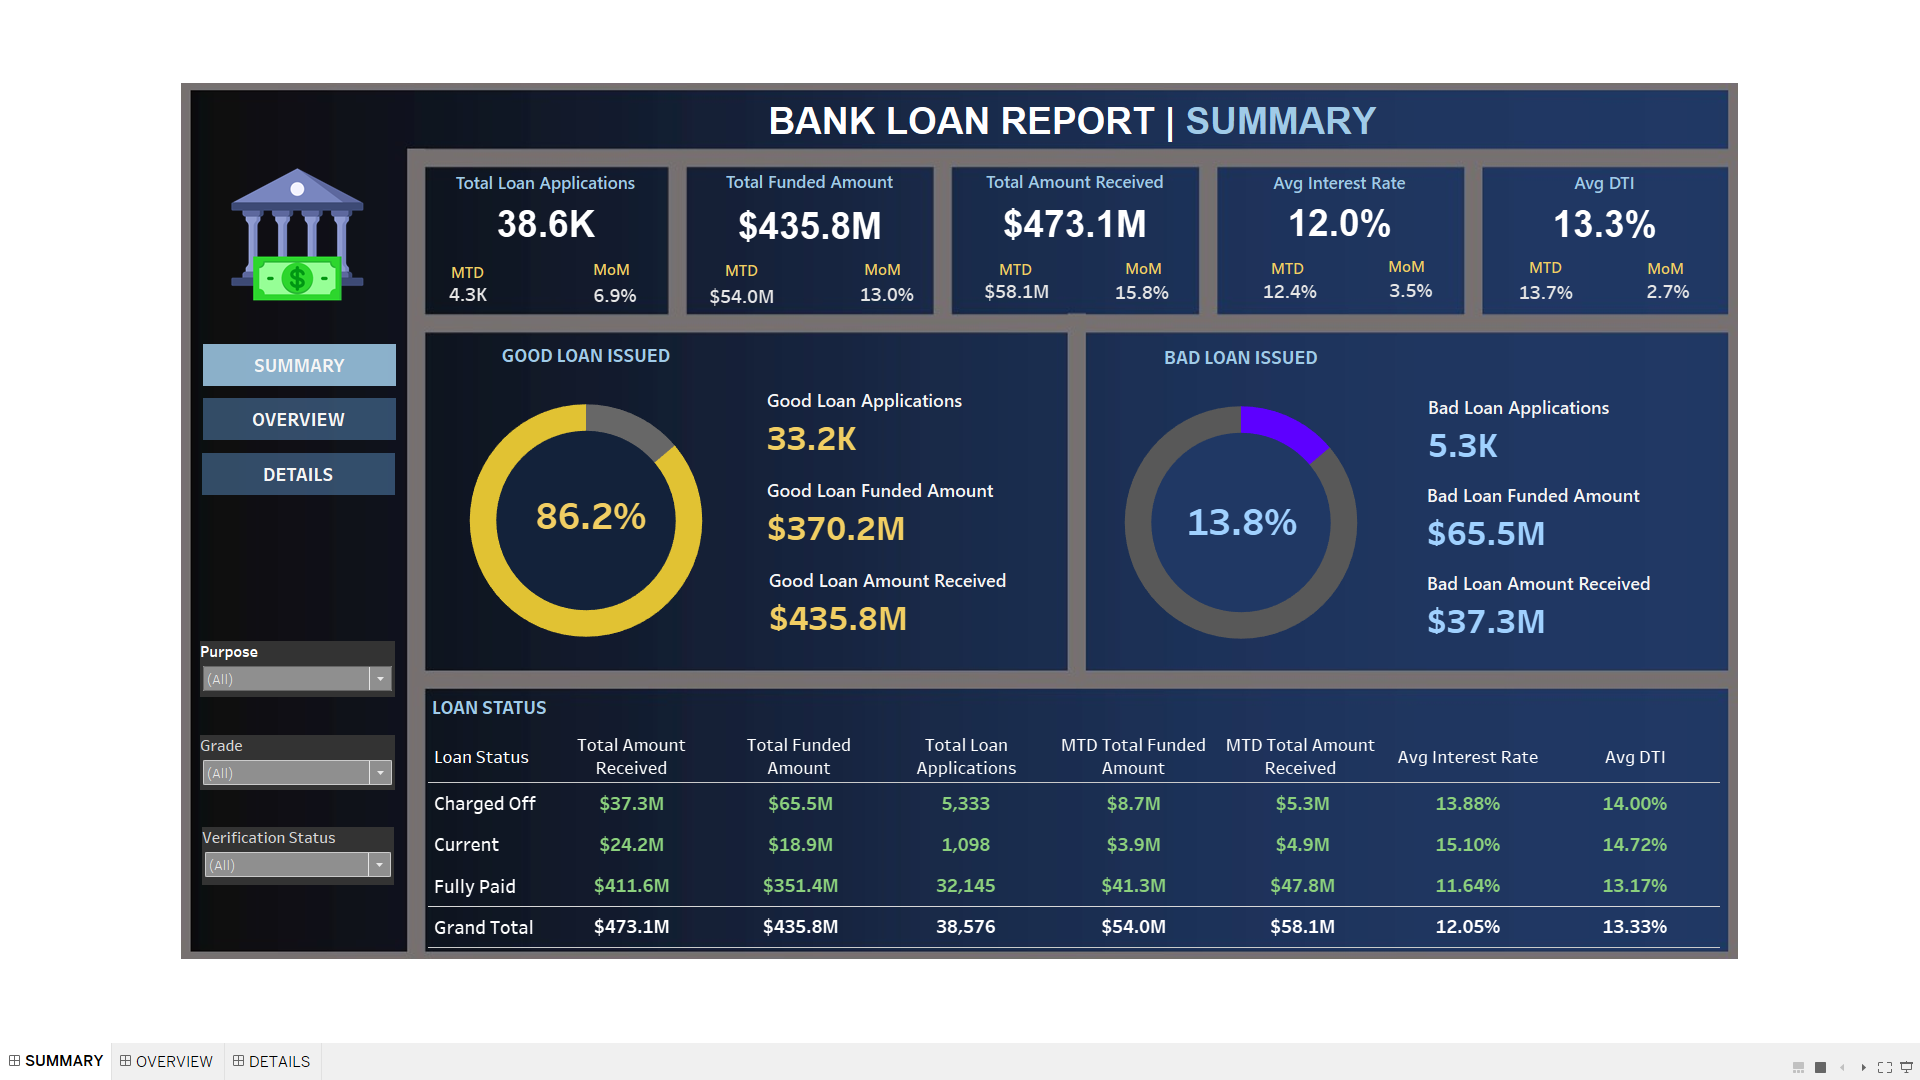

What the dashboard file says about the page in this screenshot:
{"tool":"tableau","page":{"name":"SUMMARY","canvas":[1600,900],"ordinal":2},"visuals":[{"type":"image","param":"Image/Tableau Background 1.jpg","box":[8,8,1584,884]},{"type":"text","box":[605,23,679,55]},{"type":"image","param":"Image/banking.png","box":[68,83,138,160]},{"type":"worksheet","title":"Total Funded Amount","mark":"Automatic","box":[526,95,247,84]},{"type":"worksheet","title":"Total Amount Received","mark":"Automatic","box":[791,95,248,79]},{"type":"worksheet","title":"Total Loan Applications","mark":"Automatic","box":[264,96,243,78]},{"type":"worksheet","title":"Avg Interest Rate","mark":"Automatic","box":[1056,96,247,76]},{"type":"worksheet","title":"Avg DTI","mark":"Automatic","box":[1322,96,245,78]},{"type":"text","box":[1209,183,75,24]},{"type":"text","box":[1348,184,75,24]},{"type":"text","box":[946,185,75,24]},{"type":"text","box":[1090,185,75,24]},{"type":"text","box":[1468,185,75,24]},{"type":"text","box":[414,186,75,24]},{"type":"text","box":[685,186,75,24]},{"type":"text","box":[818,186,75,24]},{"type":"text","box":[544,187,75,24]},{"type":"text","box":[270,189,75,24]},{"type":"worksheet","title":"MTD Total Amount Received","mark":"Automatic","box":[816,198,82,44]},{"type":"worksheet","title":"MoM Avg Interest Rate","mark":"Automatic","box":[1213,198,75,42]},{"type":"worksheet","title":"MTD Avg Interest Rate","mark":"Automatic","box":[1087,200,85,39]},{"type":"worksheet","title":"MTD DTI","mark":"Automatic","box":[1338,200,96,41]},{"type":"worksheet","title":"MoM Avg DTI","mark":"Automatic","box":[1459,200,98,40]},{"type":"worksheet","title":"MoM Total Funded Amount","mark":"Automatic","box":[682,202,89,42]},{"type":"worksheet","title":"MoM Total Amount Received","mark":"Automatic","box":[944,204,76,33]},{"type":"worksheet","title":"MTD Total Loan Applications","mark":"Automatic","box":[276,207,64,31]},{"type":"worksheet","title":"MTD Total Funded Amount","mark":"Automatic","box":[544,207,75,35]},{"type":"worksheet","title":"MoM Loan Applications","mark":"Automatic","box":[421,209,68,29]},{"type":"worksheet","title":"Good Loan Issued","mark":"Pie","rows":["Calculation_1113796513206132737","Calculation_1113796513206132737"],"box":[276,267,300,325]},{"type":"worksheet","title":"Bad Loan Issued","mark":"Pie","rows":["Calculation_1113796513206132737","Calculation_1113796513206132737"],"box":[931,269,300,325]},{"type":"dashboard-object","box":[43,273,193,42]},{"type":"worksheet","title":"Good Loan Applications","mark":"Automatic","box":[599,309,300,75]},{"type":"worksheet","title":"Bad Loan Applications","mark":"Automatic","box":[1260,316,300,75]},{"type":"dashboard-object","box":[43,327,193,42]},{"type":"dashboard-object","box":[42,382,193,42]},{"type":"worksheet","title":"Good Loan Funded Amount","mark":"Automatic","box":[599,399,300,75]},{"type":"worksheet","title":"Good Loan Application %","mark":"Automatic","box":[358,404,145,78]},{"type":"worksheet","title":"Bad Loan Funded Amount","mark":"Automatic","box":[1259,404,300,75]},{"type":"worksheet","title":"Bad Loan Application % ","mark":"Automatic","box":[1005,410,153,77]},{"type":"worksheet","title":"Good Loan Amount Received","mark":"Automatic","box":[601,489,300,75]},{"type":"worksheet","title":"Bad Loan Amount Received","mark":"Automatic","box":[1259,492,300,75]},{"type":"filter","title":"Good Loan Issued","param":"[federated.1yo319s07czi5s1dtju3v0njmv9x].[none:purpose:nk]","box":[40,570,195,56]},{"type":"worksheet","title":"Loan Status","mark":"Automatic","rows":["loan_status"],"box":[268,619,1292,258]},{"type":"filter","title":"Good Loan Issued","param":"[federated.1yo319s07czi5s1dtju3v0njmv9x].[none:grade:nk]","box":[40,664,195,55]},{"type":"filter","title":"Good Loan Issued","param":"[federated.1yo319s07czi5s1dtju3v0njmv9x].[none:verification_status:nk]","box":[42,756,192,58]}]}

Visuals, with their boxes on the page's 1600x900 design canvas (x1, y1, x2, y2). These are canvas units, not pixel positions in the 1920x1080 screenshot, which may show the page scaled, cropped or inside an application window:
image: x1=8, y1=8, x2=1592, y2=892
text: x1=605, y1=23, x2=1284, y2=78
image: x1=68, y1=83, x2=206, y2=243
"Total Funded Amount" worksheet: x1=526, y1=95, x2=773, y2=179
"Total Amount Received" worksheet: x1=791, y1=95, x2=1039, y2=174
"Total Loan Applications" worksheet: x1=264, y1=96, x2=507, y2=174
"Avg Interest Rate" worksheet: x1=1056, y1=96, x2=1303, y2=172
"Avg DTI" worksheet: x1=1322, y1=96, x2=1567, y2=174
text: x1=1209, y1=183, x2=1284, y2=207
text: x1=1348, y1=184, x2=1423, y2=208
text: x1=946, y1=185, x2=1021, y2=209
text: x1=1090, y1=185, x2=1165, y2=209
text: x1=1468, y1=185, x2=1543, y2=209
text: x1=414, y1=186, x2=489, y2=210
text: x1=685, y1=186, x2=760, y2=210
text: x1=818, y1=186, x2=893, y2=210
text: x1=544, y1=187, x2=619, y2=211
text: x1=270, y1=189, x2=345, y2=213
"MTD Total Amount Received" worksheet: x1=816, y1=198, x2=898, y2=242
"MoM Avg Interest Rate" worksheet: x1=1213, y1=198, x2=1288, y2=240
"MTD Avg Interest Rate" worksheet: x1=1087, y1=200, x2=1172, y2=239
"MTD DTI" worksheet: x1=1338, y1=200, x2=1434, y2=241
"MoM Avg DTI" worksheet: x1=1459, y1=200, x2=1557, y2=240
"MoM Total Funded Amount" worksheet: x1=682, y1=202, x2=771, y2=244
"MoM Total Amount Received" worksheet: x1=944, y1=204, x2=1020, y2=237
"MTD Total Loan Applications" worksheet: x1=276, y1=207, x2=340, y2=238
"MTD Total Funded Amount" worksheet: x1=544, y1=207, x2=619, y2=242
"MoM Loan Applications" worksheet: x1=421, y1=209, x2=489, y2=238
"Good Loan Issued" worksheet (Pie marks): x1=276, y1=267, x2=576, y2=592
"Bad Loan Issued" worksheet (Pie marks): x1=931, y1=269, x2=1231, y2=594
dashboard-object: x1=43, y1=273, x2=236, y2=315
"Good Loan Applications" worksheet: x1=599, y1=309, x2=899, y2=384
"Bad Loan Applications" worksheet: x1=1260, y1=316, x2=1560, y2=391
dashboard-object: x1=43, y1=327, x2=236, y2=369
dashboard-object: x1=42, y1=382, x2=235, y2=424
"Good Loan Funded Amount" worksheet: x1=599, y1=399, x2=899, y2=474
"Good Loan Application %" worksheet: x1=358, y1=404, x2=503, y2=482
"Bad Loan Funded Amount" worksheet: x1=1259, y1=404, x2=1559, y2=479
"Bad Loan Application % " worksheet: x1=1005, y1=410, x2=1158, y2=487
"Good Loan Amount Received" worksheet: x1=601, y1=489, x2=901, y2=564
"Bad Loan Amount Received" worksheet: x1=1259, y1=492, x2=1559, y2=567
"Good Loan Issued" filter: x1=40, y1=570, x2=235, y2=626
"Loan Status" worksheet: x1=268, y1=619, x2=1560, y2=877
"Good Loan Issued" filter: x1=40, y1=664, x2=235, y2=719
"Good Loan Issued" filter: x1=42, y1=756, x2=234, y2=814
